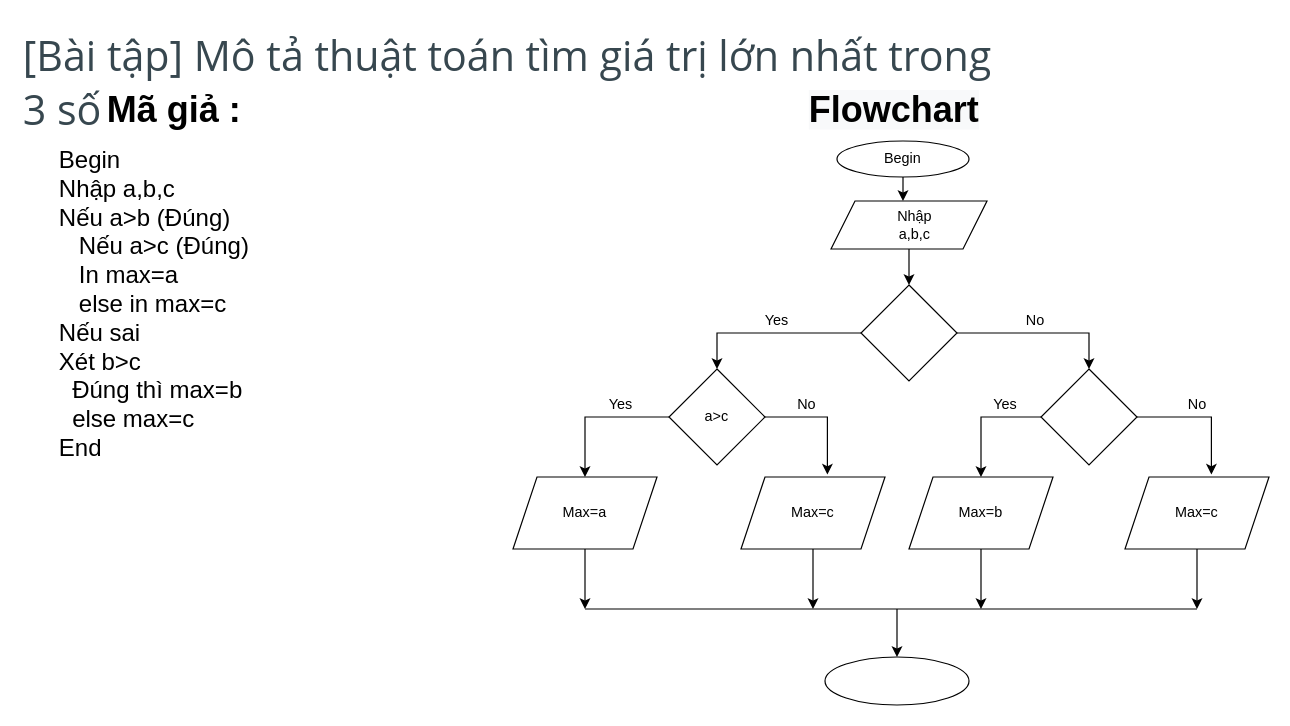
The diagram is 1290 pixels wide and 726 high, and some of its shapes have lost their labels. Here are the shapes that lost their labels. From the top down, the centre of each, then its label:
At (908,332): "a>b".
At (1088,416): "b>c".
At (896,680): "End".
